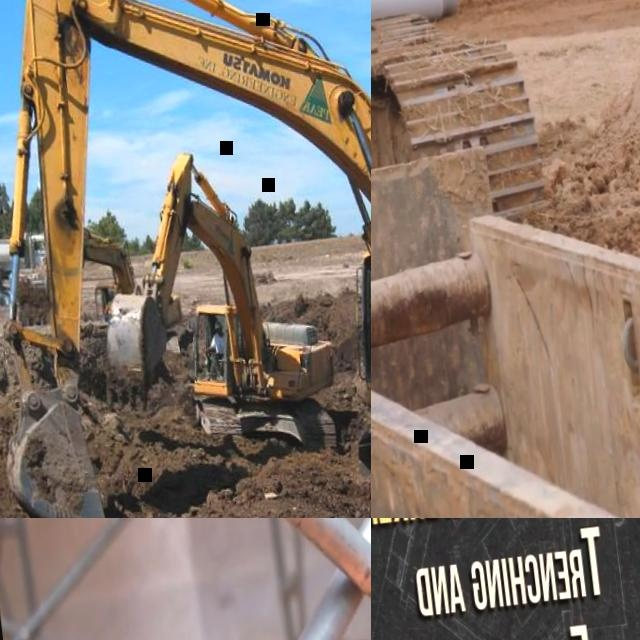Hardhat: (213, 322, 222, 330)
NO-Mask: (217, 331, 223, 338)
NO-Safety Vest: (214, 334, 227, 355)
Person: (201, 321, 231, 375)
machinery: (0, 0, 371, 518), (75, 138, 349, 482), (371, 0, 554, 269), (0, 224, 53, 297)
